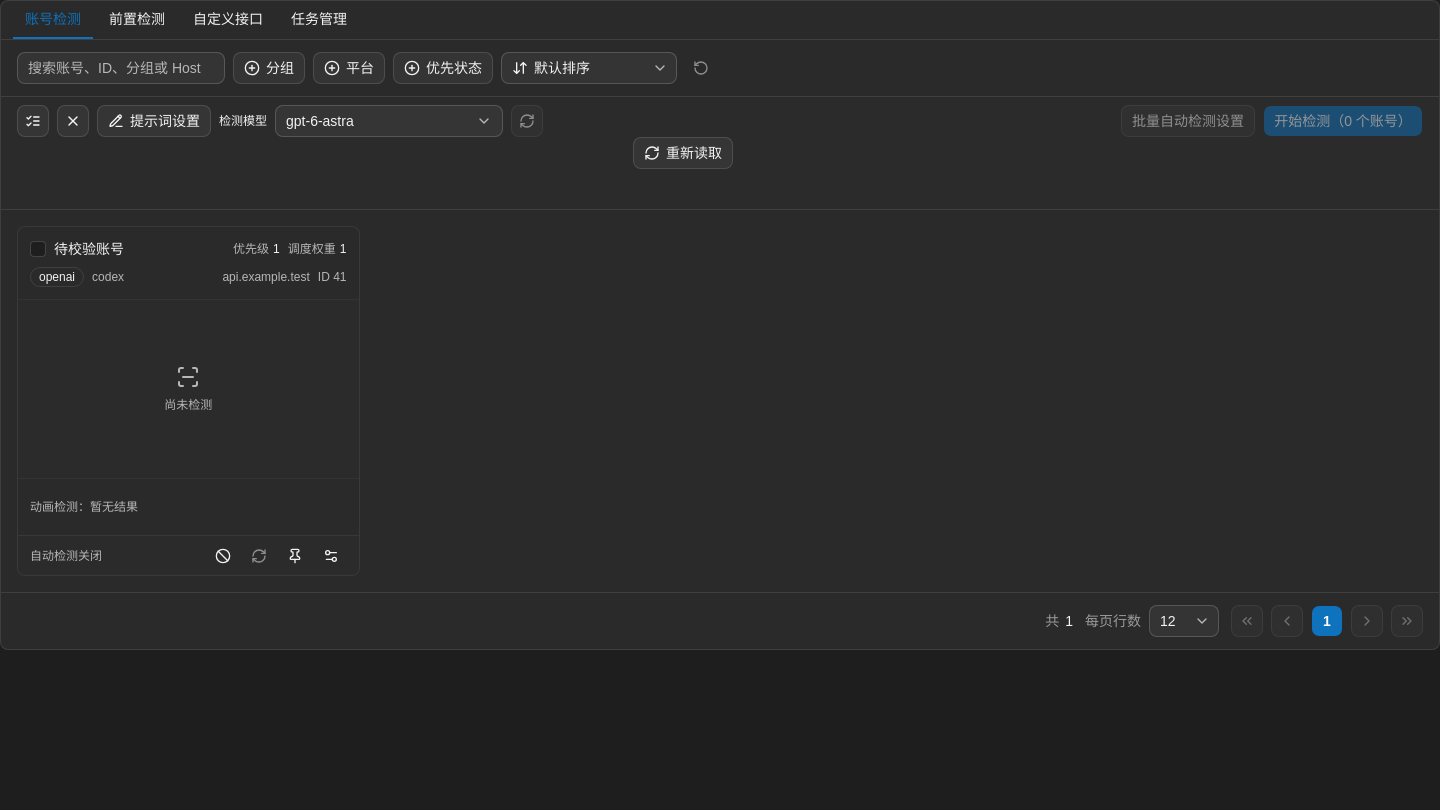
it: 最新账号读取失败时禁止确认并可重试，返回其他账号 ID 时仍禁止写入
Step 1. Click the button named "手动熔断" → (222, 556), box [206,540,238,572]
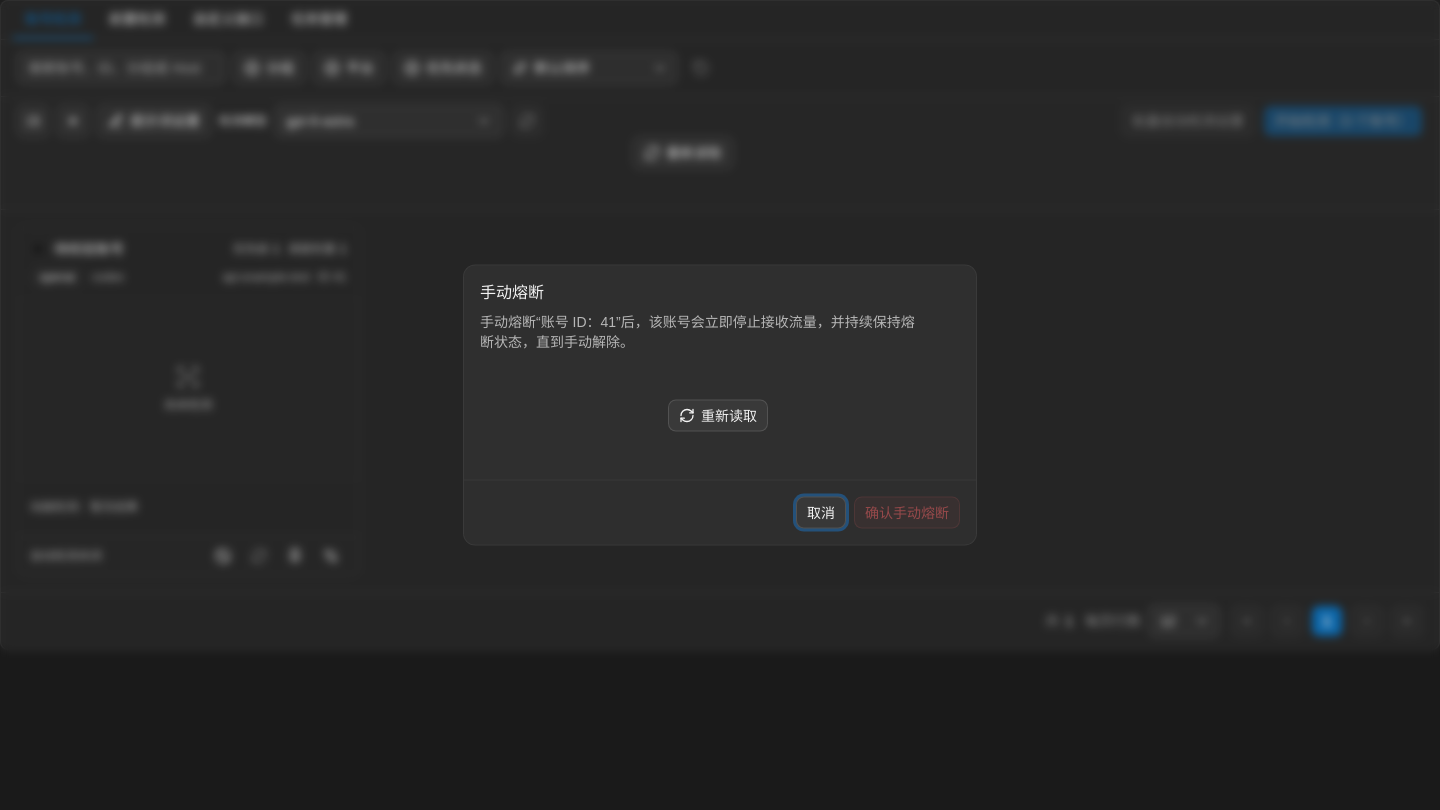
Result: the button "确认手动熔断" is disabled at [854,496,960,528]
Step 2. Click the button "重新读取" → (718, 416), box [668,400,768,432]
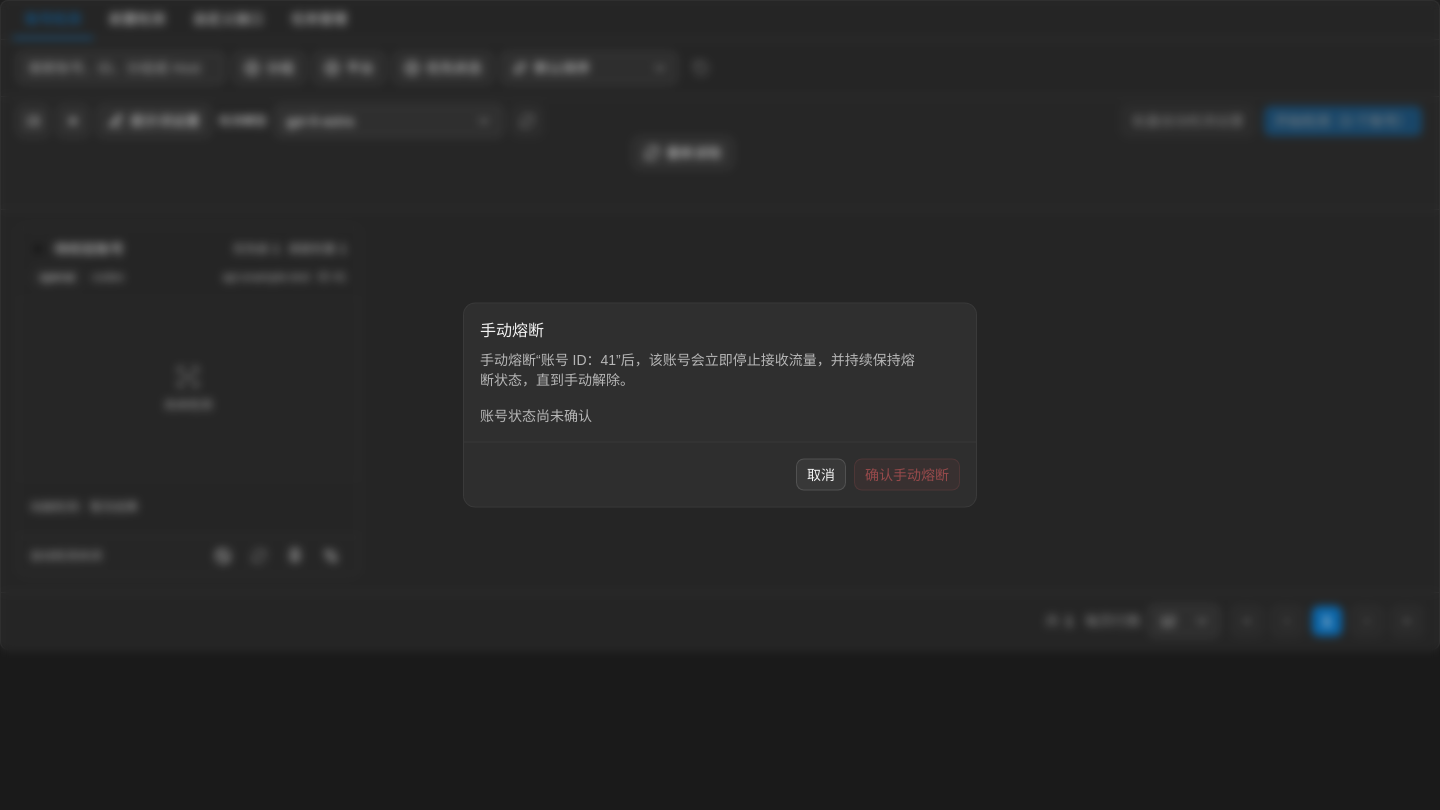
Result: the button "确认手动熔断" is disabled at [854,458,960,490]
Result: the text "账号状态尚未确认" is shown at [480,408,592,424]
